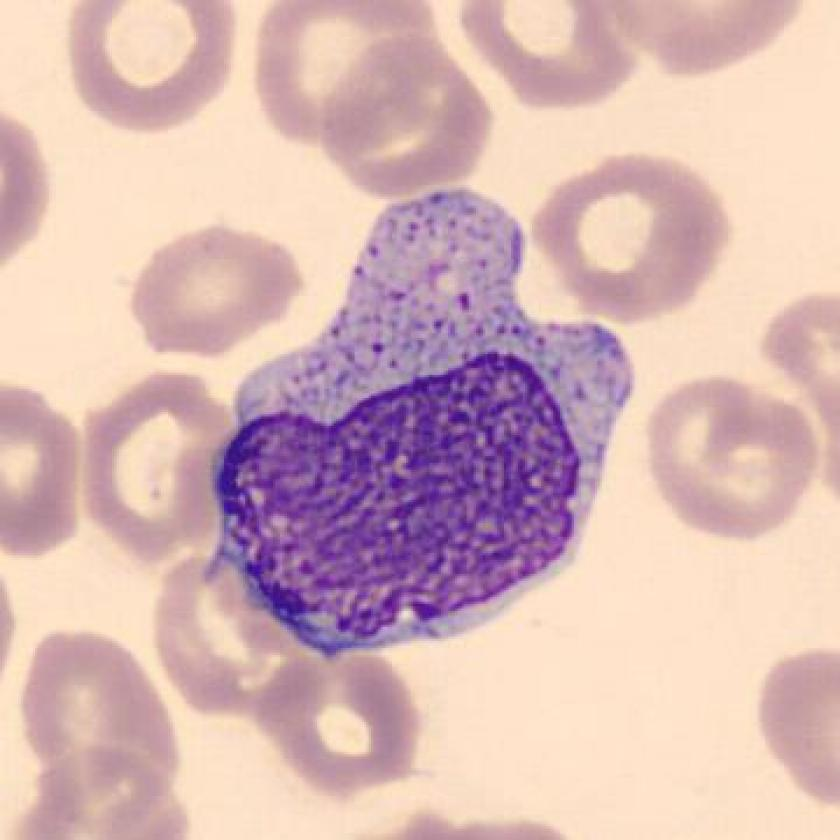monocyte: (195, 175, 654, 679)
